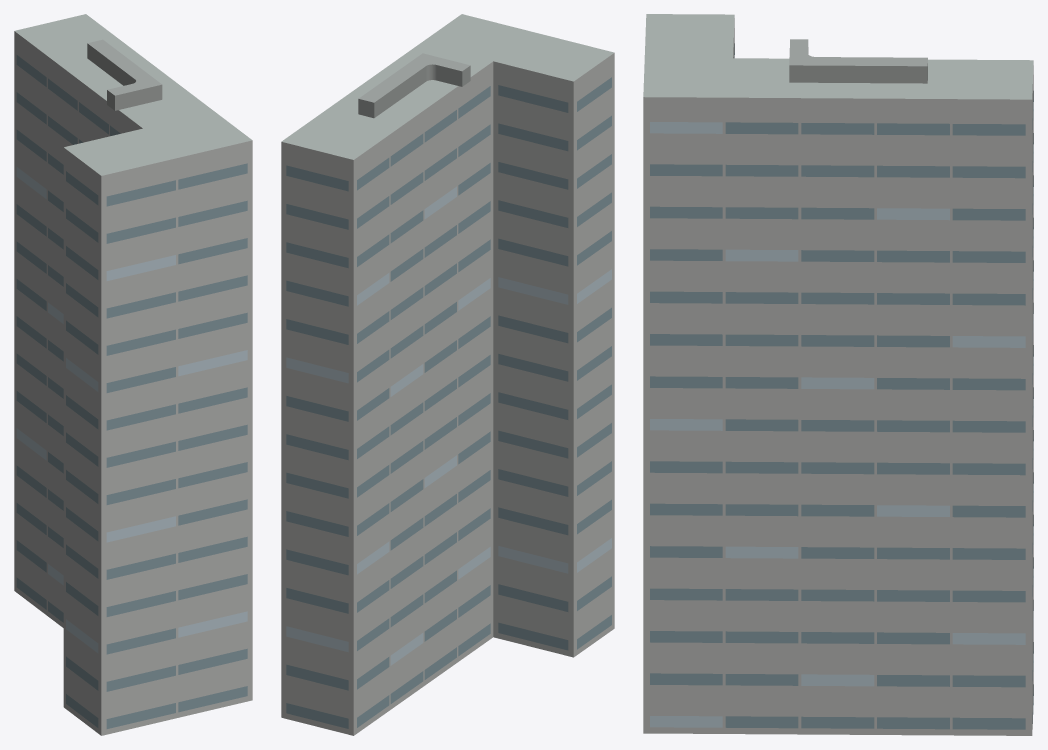
The model's file is fallback-jamsil-ricenz-219.glb.
The picture shows the model from 3 angles, left to right: view 1: azimuth 30°, elevation 25°; view 2: azimuth 150°, elevation 25°; view 3: azimuth 270°, elevation 25°; orthographic projection. The views are drawn at different scales.
Visible parts, largest first — view 1: fallback-jamsil-ricenz-219; view 2: fallback-jamsil-ricenz-219; view 3: fallback-jamsil-ricenz-219.
Part boxes in pixels (x1,y1,x2,y2): fallback-jamsil-ricenz-219: (14, 14, 252, 735); fallback-jamsil-ricenz-219: (281, 14, 614, 735); fallback-jamsil-ricenz-219: (643, 14, 1033, 735).
Size of the model in its own units: 25.64 by 91 by 49.32.
